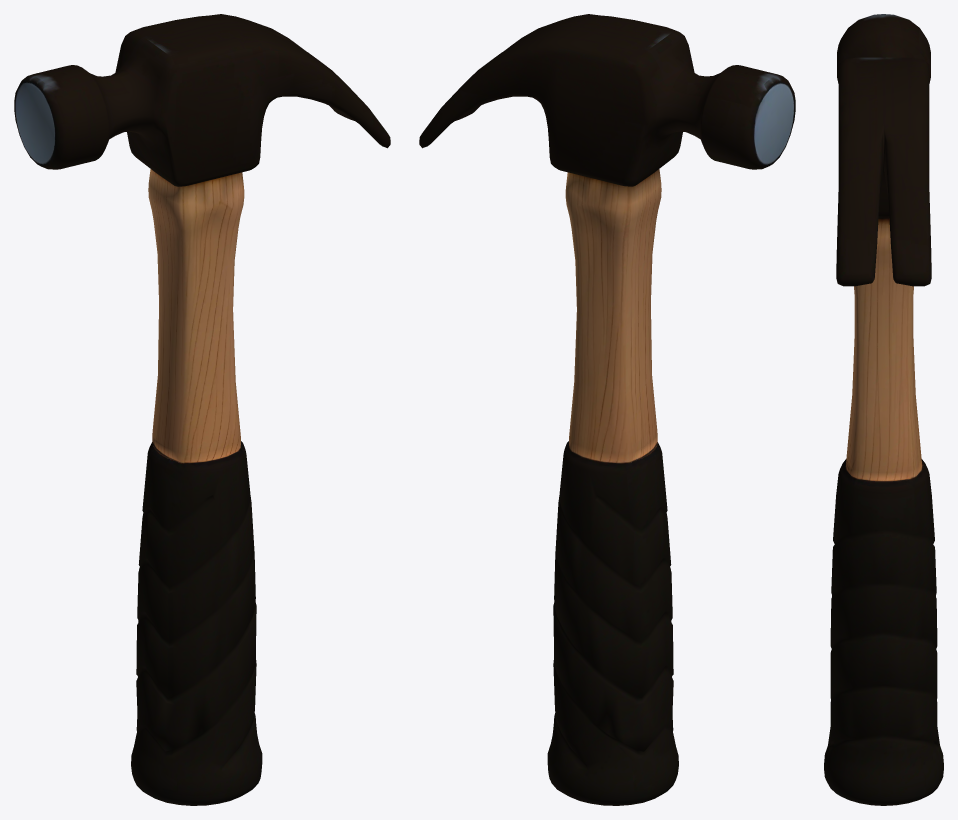
The model's file is Misc__hammer_dcec7540_v4.cluster.glb.
3 renders of one model, left to right at view 1: azimuth 30°, elevation 25°; view 2: azimuth 150°, elevation 25°; view 3: azimuth 270°, elevation 25°, orthographic. The views are drawn at different scales.
Visible parts, largest first — view 1: material; view 2: material; view 3: material.
Part boxes in pixels (x1,y1,x2,y2): material: (14,14,390,805); material: (419,14,795,805); material: (824,14,943,805).
Bounding box in the file's own units: 0.8807 × 1.9 × 0.291.
1 material, 1 textured.
